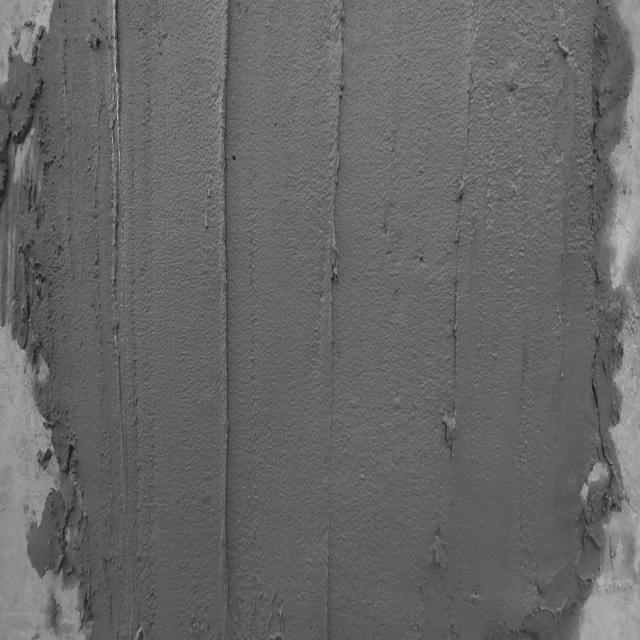trowels marks: (209, 5, 236, 622), (325, 3, 347, 640), (440, 70, 472, 458), (103, 4, 130, 446)
